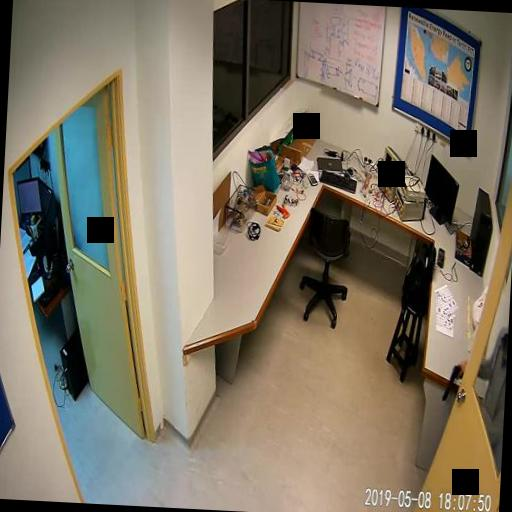Handgun: (440, 361, 464, 403)
